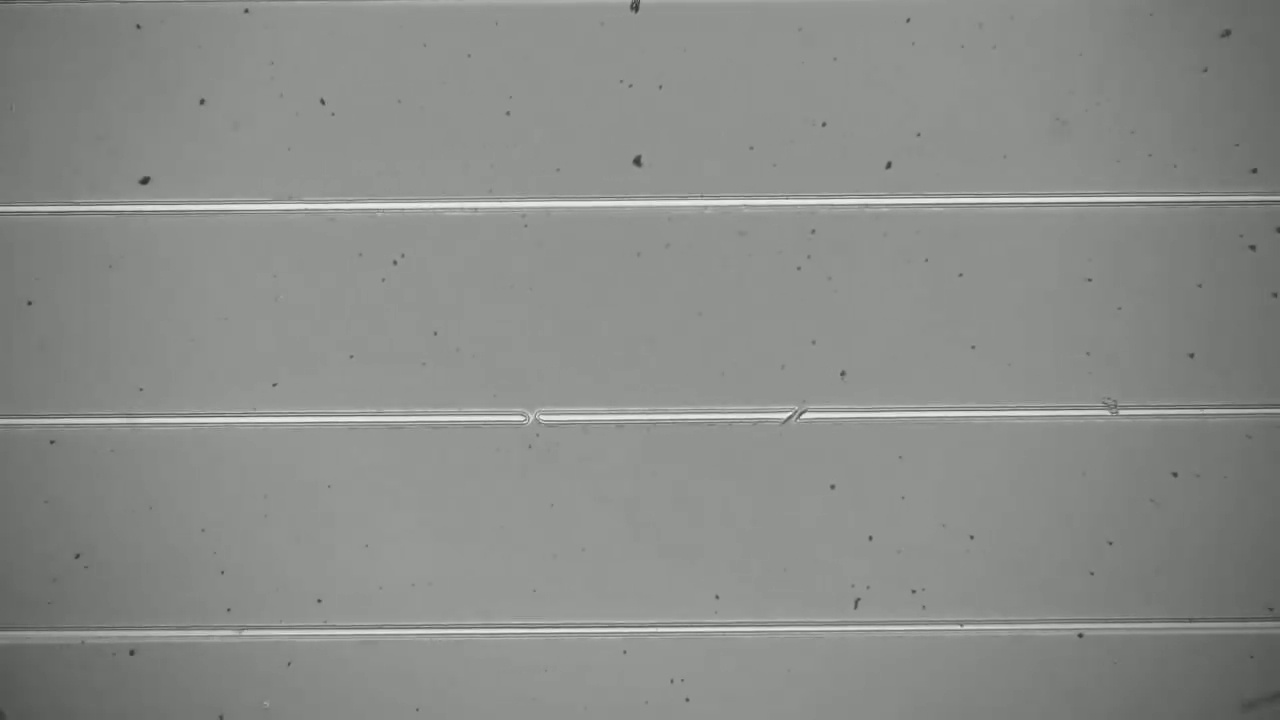open: (773, 397, 815, 433), (509, 403, 551, 433)
stains_enbedded: (1090, 385, 1132, 424)
